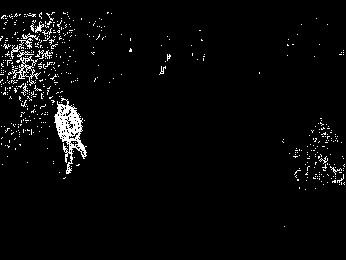person: (50, 97, 88, 176)
